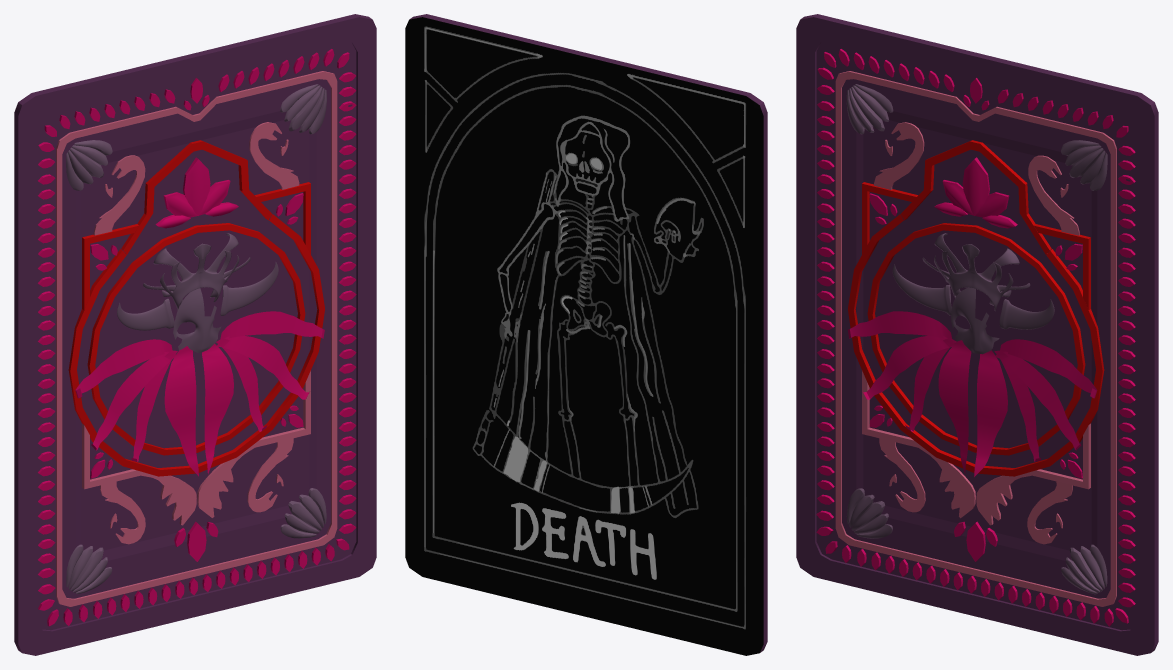
The model's file is Mesh Death.fbx.
3 renders of one model, left to right at view 1: azimuth 30°, elevation 25°; view 2: azimuth 150°, elevation 25°; view 3: azimuth 330°, elevation 25°, orthographic.
Parts seen in each view (by area): view 1: Death5; view 2: Death5; view 3: Death5.
Part boxes in pixels (bbox=[...]): Death5: bbox=[14, 14, 376, 655]; Death5: bbox=[405, 14, 767, 655]; Death5: bbox=[796, 14, 1158, 655].
Bounding box in the file's own units: 321 × 479 × 15.55.
